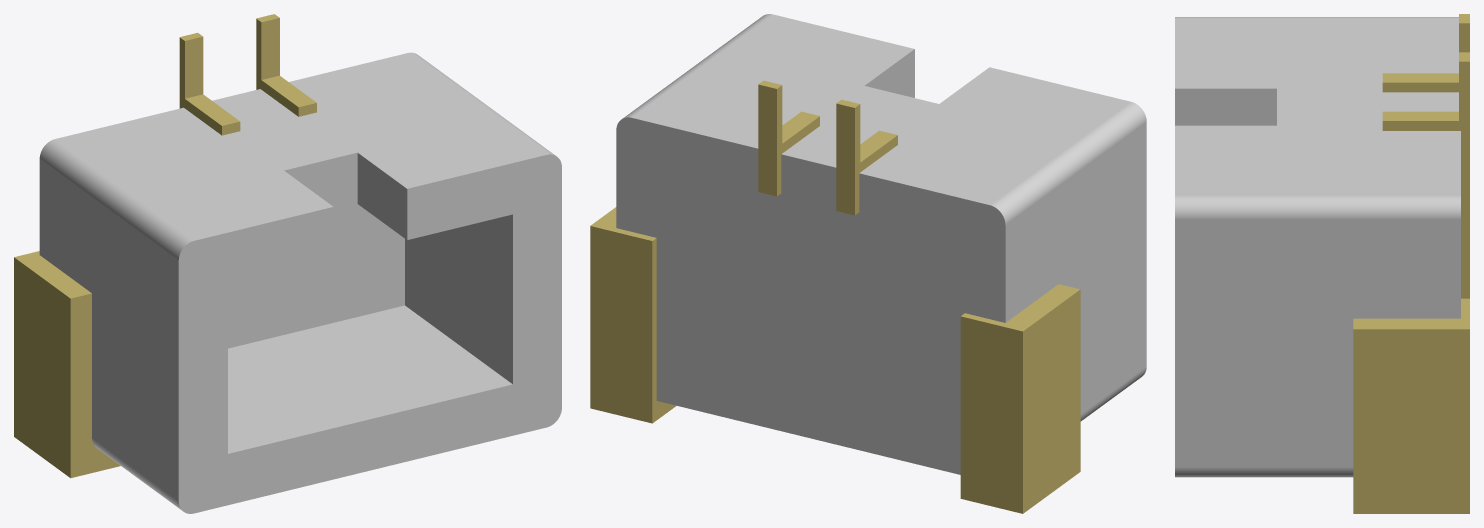
Rendered from jst_gh_2pin.glb.
3 views of the same model, side by side, from view 1: azimuth 30°, elevation 25°; view 2: azimuth 150°, elevation 25°; view 3: azimuth 270°, elevation 25° (orthographic). The views are drawn at different scales.
Parts seen in each view (by area): view 1: world; view 2: world; view 3: world.
Part boxes in pixels (x1,y1,x2,y2): world: [14, 14, 561, 513]; world: [590, 14, 1146, 513]; world: [1175, 14, 1469, 513].
Size of the model in its own units: 6.95 by 5.6 by 4.05.
